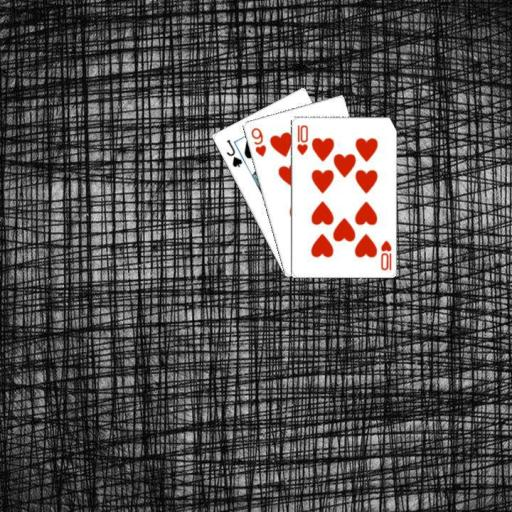10H: (378, 237, 393, 272), (294, 122, 309, 156)
9H: (248, 124, 268, 158)
JS: (222, 137, 244, 169)
